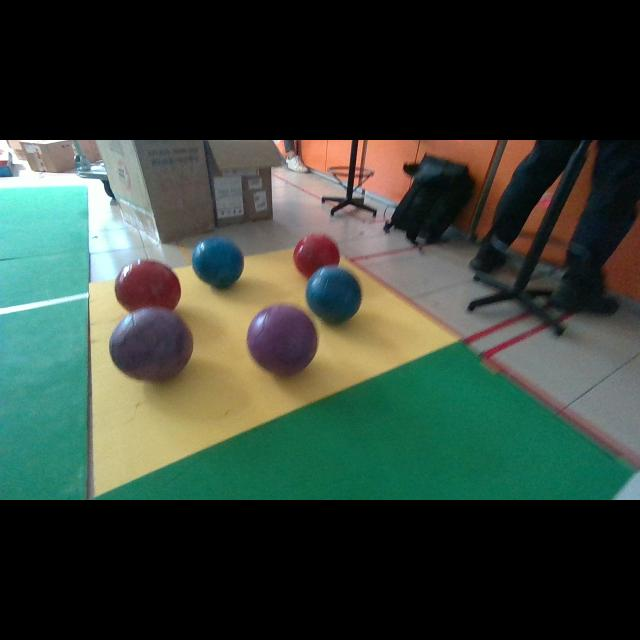B: (306, 265, 361, 322), (192, 236, 244, 288)
P: (109, 308, 192, 381), (248, 304, 318, 376)
R: (115, 260, 181, 311), (294, 234, 340, 278)
